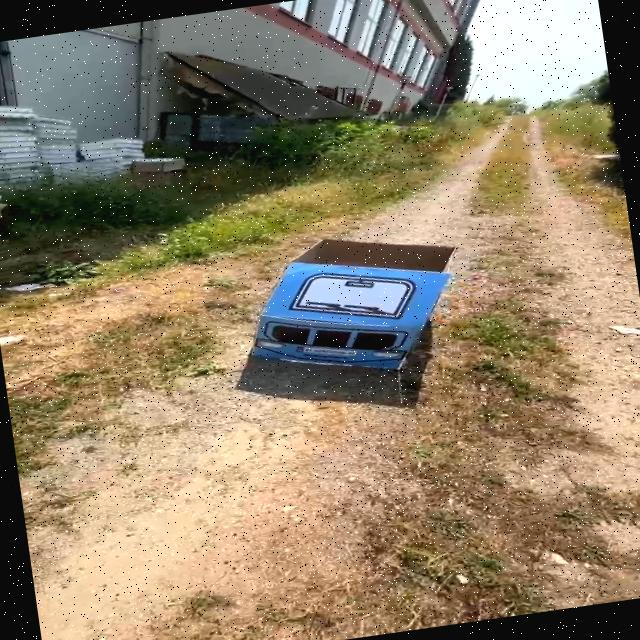blue_car: (210, 213, 492, 410)
